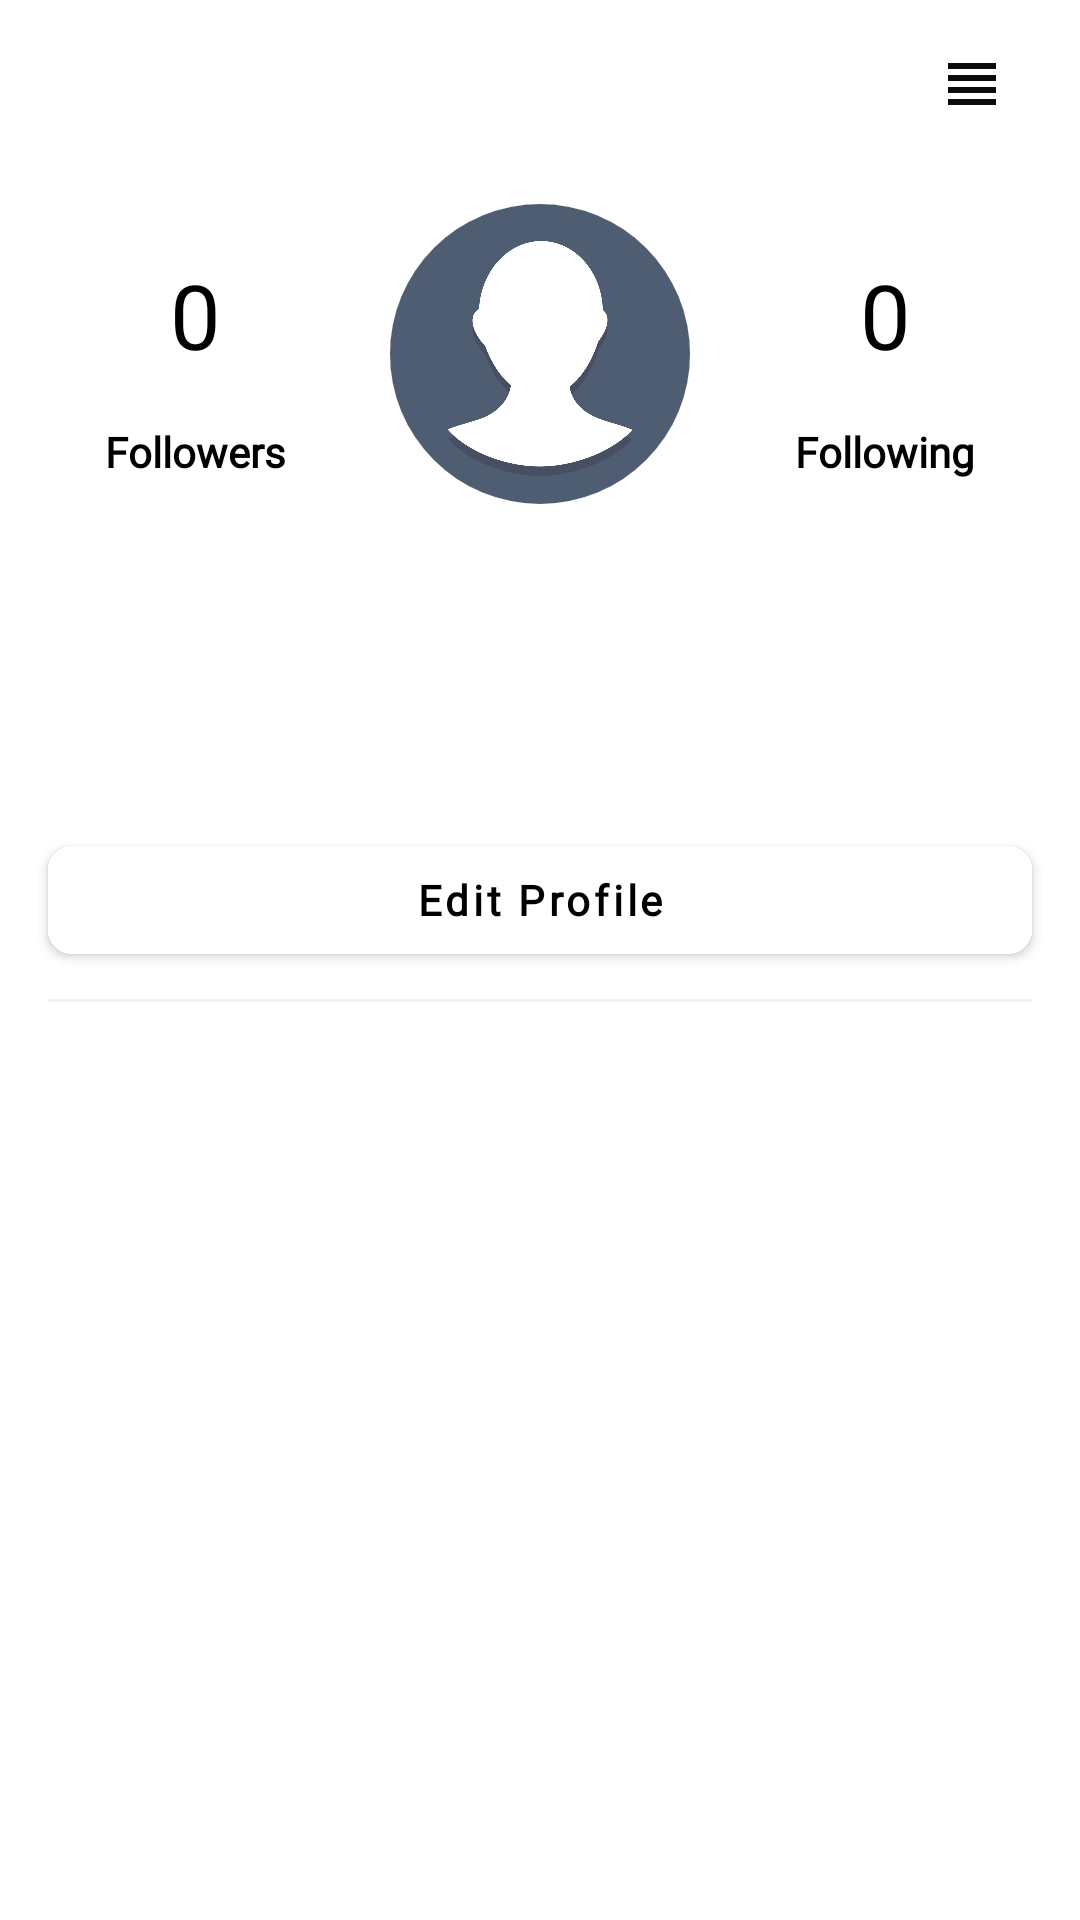

Icon bounding boxes for this 1080 x 1920 phone screenshot, format (x1, y1, x2, y2):
view headline: (948, 63, 996, 105)
